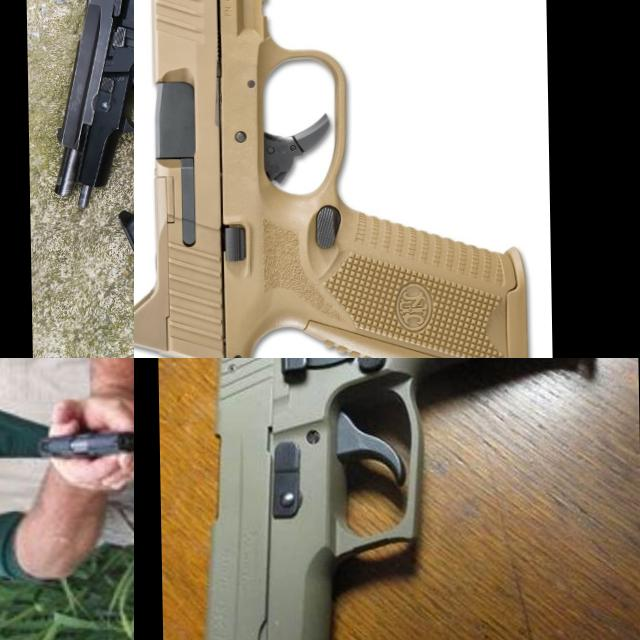handgun: (134, 0, 533, 358), (182, 358, 624, 640), (44, 0, 134, 208), (32, 420, 134, 463)
